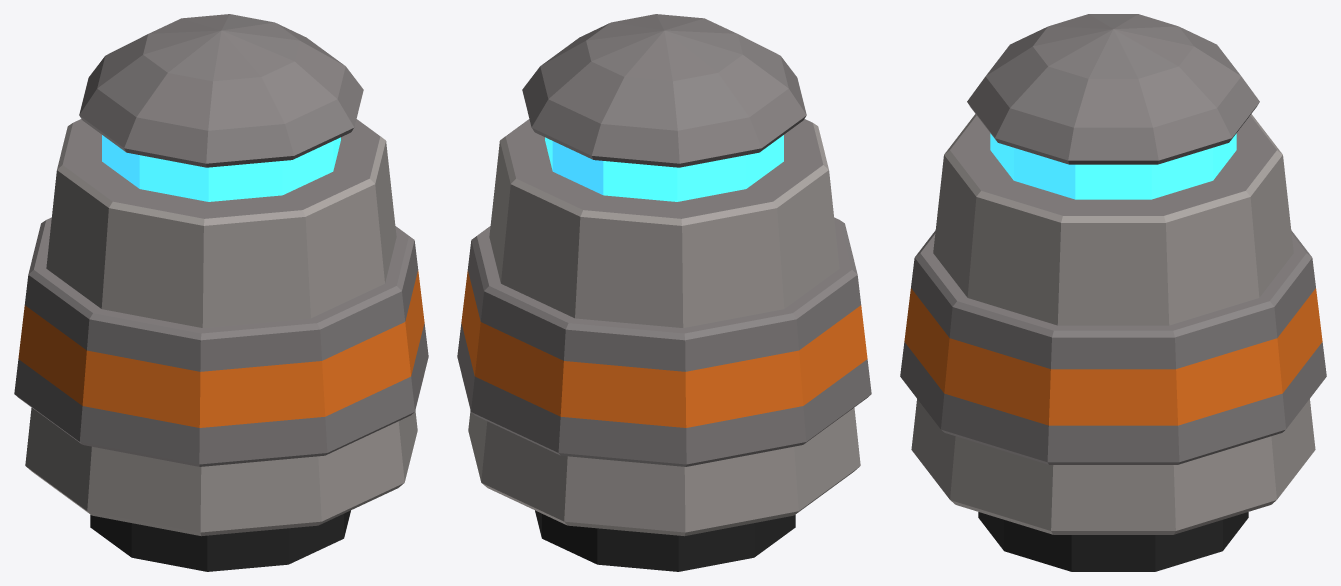
The model's file is scifi-scifi-generator-small.glb.
3 renders of one model, left to right at view 1: azimuth 30°, elevation 25°; view 2: azimuth 150°, elevation 25°; view 3: azimuth 270°, elevation 25°, orthographic.
Parts seen in each view (by area): view 1: scifi-generator-small; view 2: scifi-generator-small; view 3: scifi-generator-small.
Part boxes in pixels (<box>): scifi-generator-small: <box>14,14,428,571</box>; scifi-generator-small: <box>457,14,871,571</box>; scifi-generator-small: <box>900,14,1326,571</box>.
Bounding box in the file's own units: 2 × 2.66 × 2.1.
